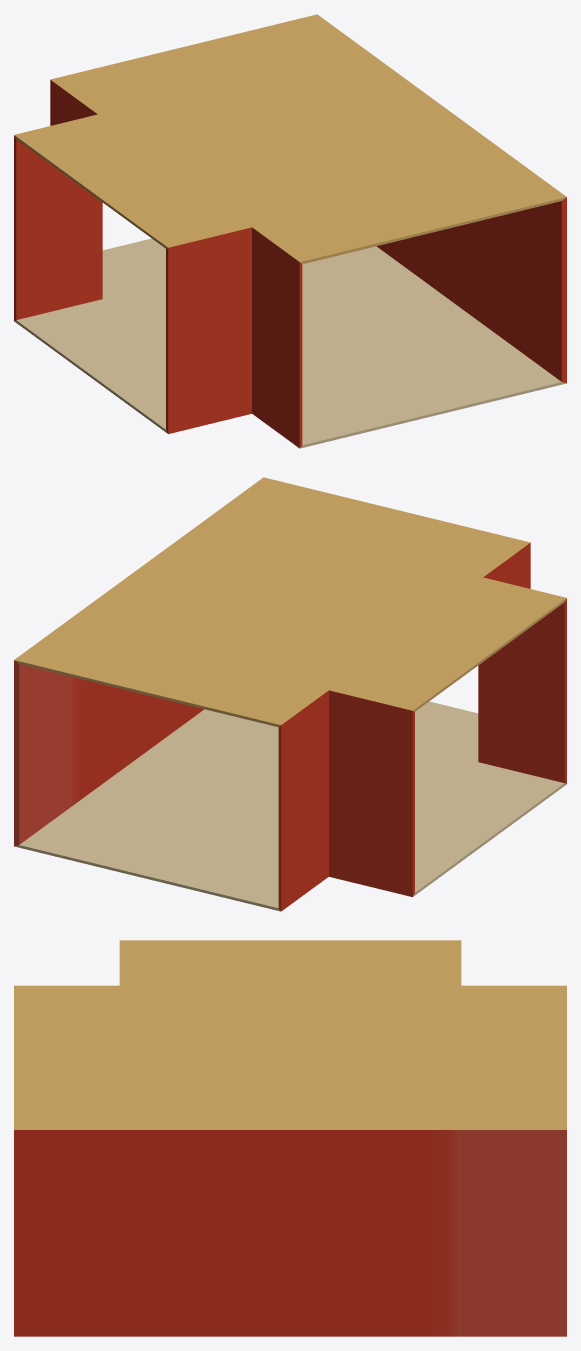
The picture shows the model from 3 angles, top to bottom: view 1: azimuth 30°, elevation 25°; view 2: azimuth 150°, elevation 25°; view 3: azimuth 270°, elevation 25°; orthographic projection. The views are drawn at different scales.
Parts seen in each view (by area): view 1: PlanoT; view 2: PlanoT; view 3: PlanoT.
Part boxes in pixels (x1,y1,x2,y2): PlanoT: (14,14,566,448); PlanoT: (14,477,566,911); PlanoT: (14,940,566,1336).
Size of the model in its own units: 812 by 412 by 1000.
